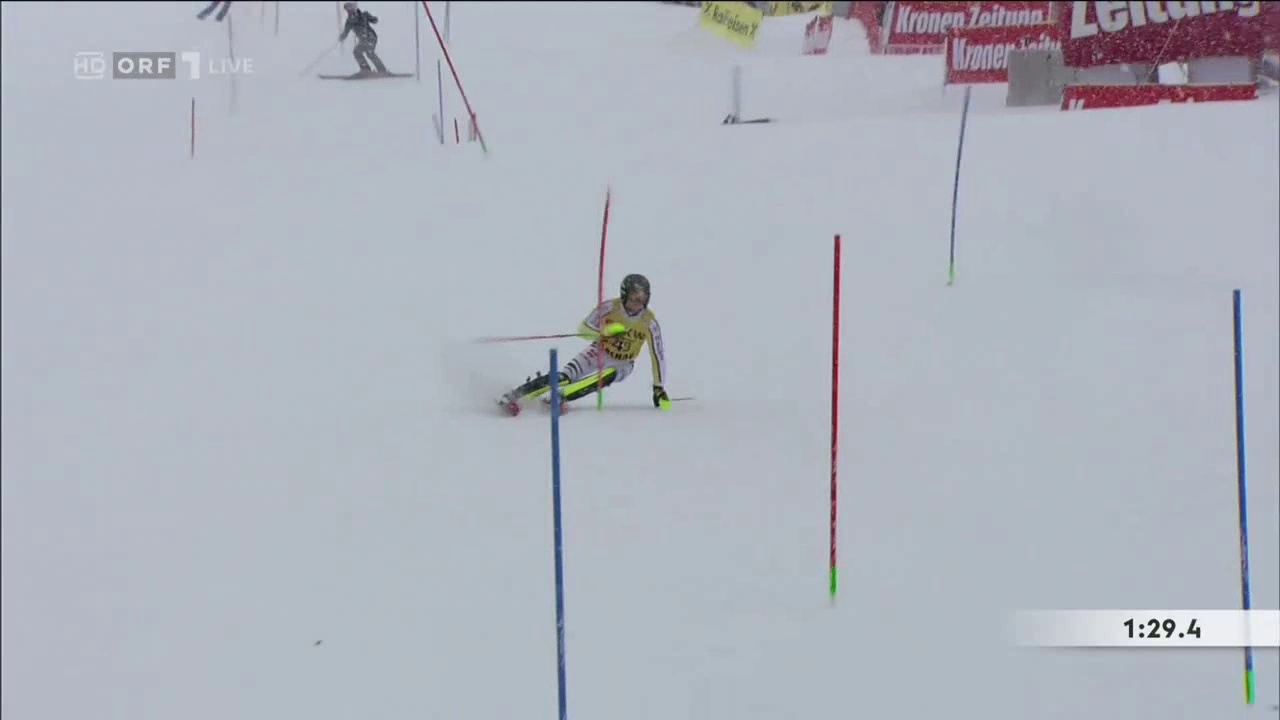kronenzeitung: (943, 15, 1054, 83), (890, 5, 1049, 37)
rauch: (604, 332, 644, 358)
